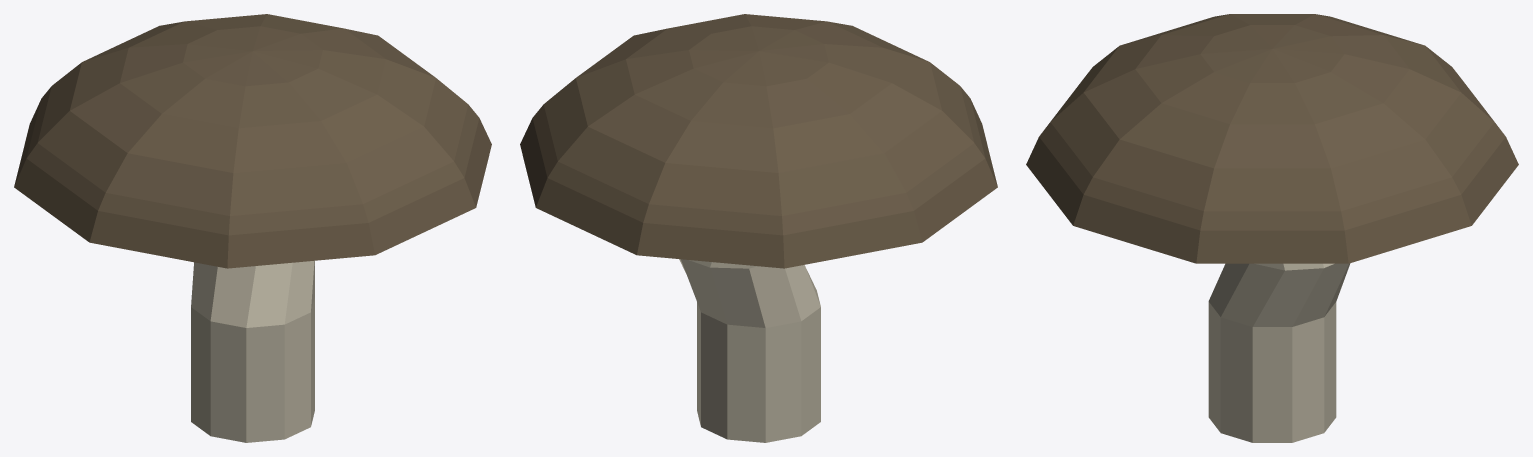
Rendered from Mushroom.fbx.
3 views of the same model, side by side, from view 1: azimuth 30°, elevation 25°; view 2: azimuth 150°, elevation 25°; view 3: azimuth 270°, elevation 25° (orthographic).
Visible parts, largest first — view 1: Cap, Stem; view 2: Cap, Stem; view 3: Cap, Stem.
Part boxes in pixels (x1,y1,x2,y2): Cap: [14, 14, 491, 268]; Stem: [191, 260, 314, 442]; Cap: [520, 14, 997, 268]; Stem: [679, 259, 820, 442]; Cap: [1026, 14, 1518, 263]; Stem: [1208, 263, 1350, 442].
Bounding box in the file's own units: 457 × 396 × 480.
